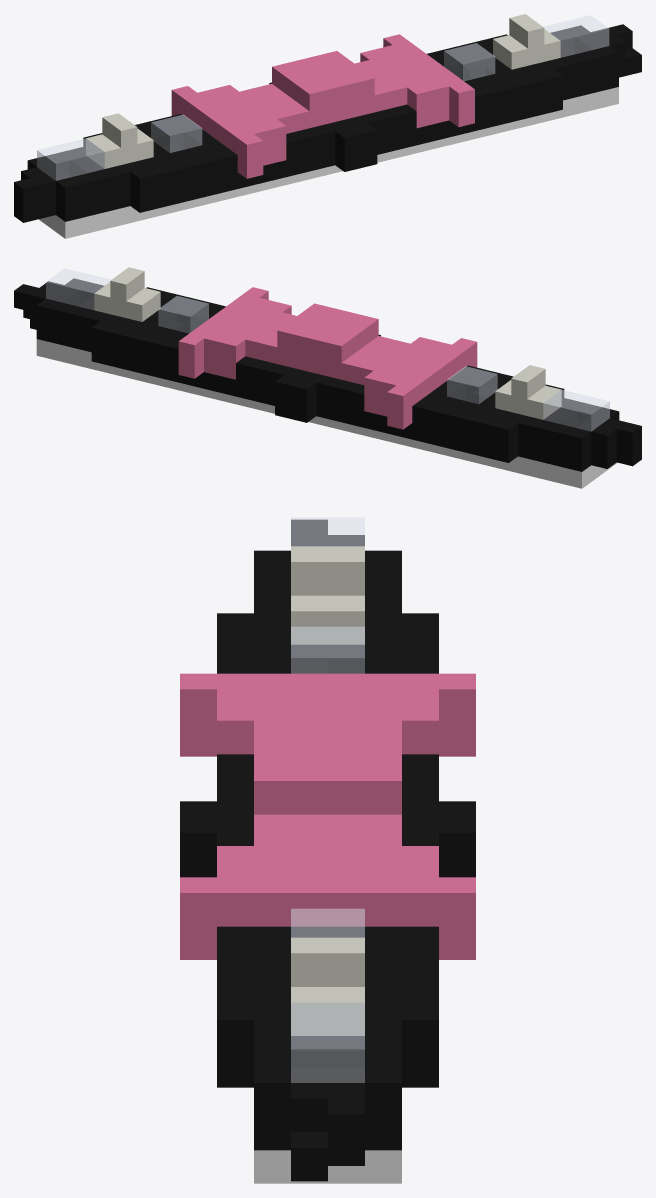
Rendered from barrette.glb.
The picture shows the model from 3 angles, top to bottom: view 1: azimuth 30°, elevation 25°; view 2: azimuth 150°, elevation 25°; view 3: azimuth 270°, elevation 25°; orthographic projection. The views are drawn at different scales.
Parts seen in each view (by area): view 1: barrette:compound; view 2: barrette:compound; view 3: barrette:compound.
Part boxes in pixels (left/top/right/bottom): barrette:compound: left=14, top=14, right=641, bottom=238; barrette:compound: left=14, top=267, right=641, bottom=488; barrette:compound: left=180, top=517, right=475, bottom=1183.
Size of the model in its own units: 0.076 by 0.01 by 0.016.
